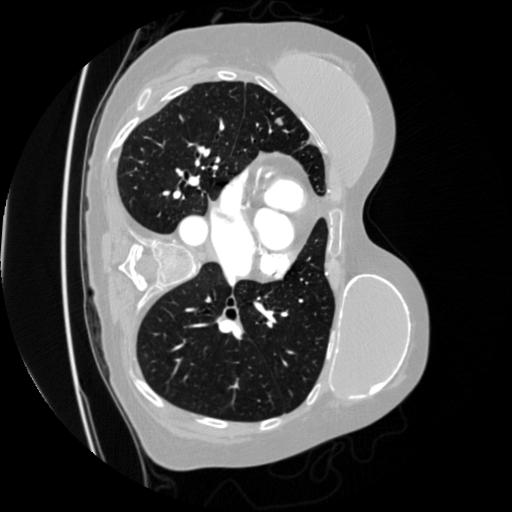nodule: (273, 117, 287, 131)
